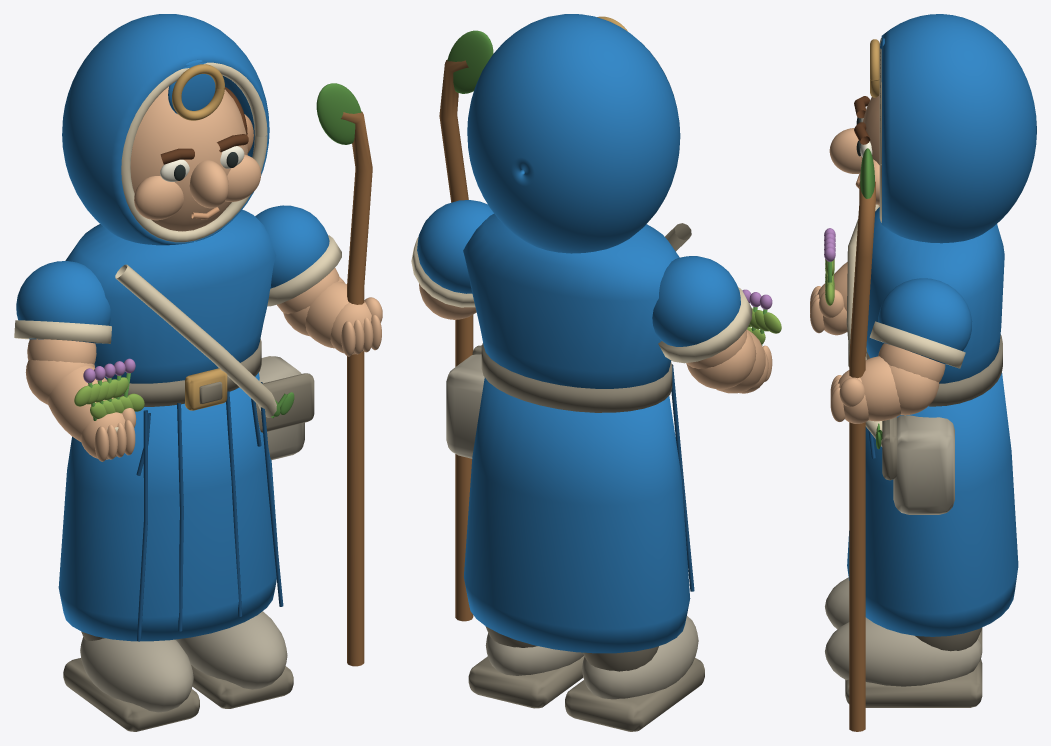
The model's file is heler_medior.glb.
3 renders of one model, left to right at view 1: azimuth 30°, elevation 25°; view 2: azimuth 150°, elevation 25°; view 3: azimuth 270°, elevation 25°, orthographic. The views are drawn at different scales.
Visible parts, largest first — view 1: TEAM_Long_felt_robe.001, Tunic_torso.004, TEAM_Soft_hood.001, Wooden_walking_staff.001, Head.004, Boot_toe.008, Boot_toe.009, Herbs_Felt_sleeve.001, Hood_cream_lining.001, Satchel_woven_strap.001, Walking_staff_Felt_sleeve.001, Boot_sole.008 (+24 smaller); view 2: TEAM_Long_felt_robe.001, TEAM_Soft_hood.001, Tunic_torso.004, Herbs_Felt_sleeve.001, Wooden_walking_staff.001, Belt.004, Walking_staff_Felt_sleeve.001, Boot_sole.008, Boot_toe.008, Boot_sole.009, Healer_felt_satchel.001, Boot_toe.009 (+9 smaller); view 3: TEAM_Soft_hood.001, TEAM_Long_felt_robe.001, Tunic_torso.004, Wooden_walking_staff.001, Boot_toe.009, Healer_felt_satchel.001, Walking_staff_Felt_sleeve.001, Boot_sole.009, Walking_staff_Forearm.001, Walking_staff_Cream_cuff.001, Belt.004, Walking_staff_Elbow.001 (+15 smaller).
Boxes of the visible parts, x1,y1,x2,y2 form: TEAM_Long_felt_robe.001: (58, 372, 277, 641); Tunic_torso.004: (65, 209, 276, 383); TEAM_Soft_hood.001: (62, 14, 269, 245); Wooden_walking_staff.001: (341, 111, 372, 666); Head.004: (130, 86, 247, 231); Boot_toe.008: (80, 637, 193, 712); Boot_toe.009: (176, 611, 287, 689); Herbs_Felt_sleeve.001: (16, 261, 110, 343); Hood_cream_lining.001: (121, 62, 267, 242); Satchel_woven_strap.001: (115, 264, 276, 417); Walking_staff_Felt_sleeve.001: (255, 205, 329, 288); Boot_sole.008: (63, 658, 199, 731); TEAM_Long_felt_robe.001: (463, 377, 690, 653); TEAM_Soft_hood.001: (467, 14, 680, 253); Tunic_torso.004: (463, 213, 679, 388); Herbs_Felt_sleeve.001: (652, 256, 740, 346); Wooden_walking_staff.001: (439, 59, 473, 621); Belt.004: (481, 343, 672, 412); Walking_staff_Felt_sleeve.001: (417, 200, 493, 293); Boot_sole.008: (565, 658, 704, 731); Boot_toe.008: (582, 616, 698, 699); Boot_sole.009: (468, 656, 584, 708); Healer_felt_satchel.001: (446, 354, 484, 458); Boot_toe.009: (485, 633, 583, 675); TEAM_Soft_hood.001: (881, 14, 1036, 243); TEAM_Long_felt_robe.001: (847, 373, 1018, 636); Tunic_torso.004: (866, 207, 1004, 383); Wooden_walking_staff.001: (849, 181, 875, 731); Boot_toe.009: (825, 617, 982, 686); Healer_felt_satchel.001: (893, 415, 954, 514); Walking_staff_Felt_sleeve.001: (878, 278, 972, 364); Boot_sole.009: (845, 659, 982, 707); Walking_staff_Forearm.001: (860, 356, 900, 421); Walking_staff_Cream_cuff.001: (869, 321, 965, 368); Belt.004: (866, 334, 1002, 406); Walking_staff_Elbow.001: (889, 365, 939, 415).
Bounding box in the file's own units: 1.08 × 2.09 × 0.6619.
